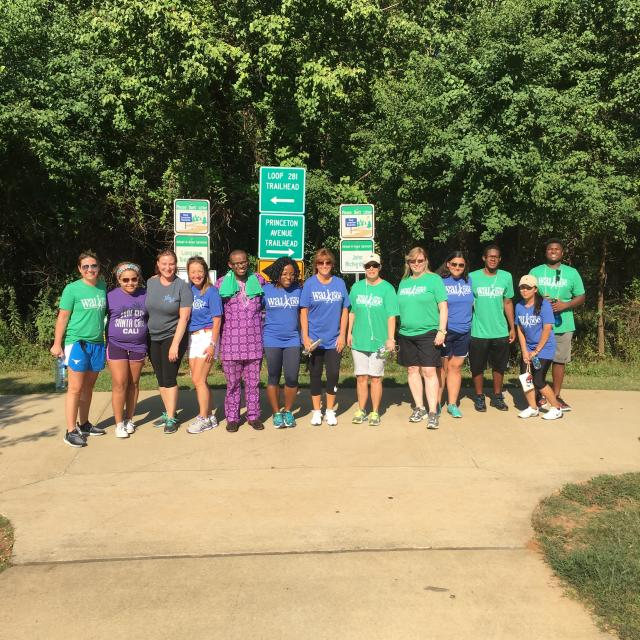body: (150, 254, 224, 434), (47, 249, 111, 450), (391, 246, 451, 432), (525, 236, 587, 413), (343, 250, 403, 427), (214, 248, 268, 432), (144, 248, 194, 434), (299, 248, 351, 426), (103, 260, 151, 440), (466, 243, 514, 412), (512, 274, 565, 421), (259, 255, 303, 430), (434, 252, 475, 419)
